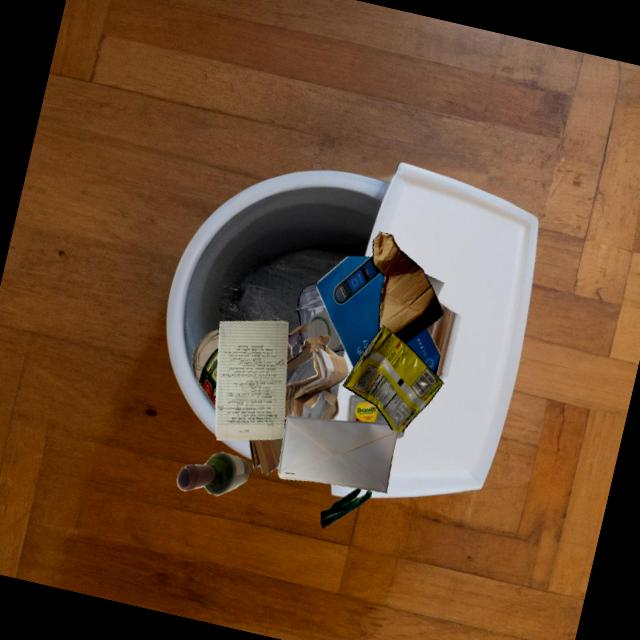biowaste: (320, 488, 371, 528)
cardboard: (372, 231, 442, 343), (284, 342, 348, 420), (286, 324, 329, 373), (249, 438, 282, 475), (424, 273, 444, 298)
glass: (176, 452, 249, 496), (191, 330, 219, 407), (306, 309, 341, 348)
paper: (277, 415, 398, 493), (215, 320, 288, 440), (315, 256, 383, 368)
plastic: (295, 310, 335, 357), (346, 394, 388, 424), (295, 282, 325, 322), (330, 343, 344, 352)
trash: (342, 324, 443, 432)
